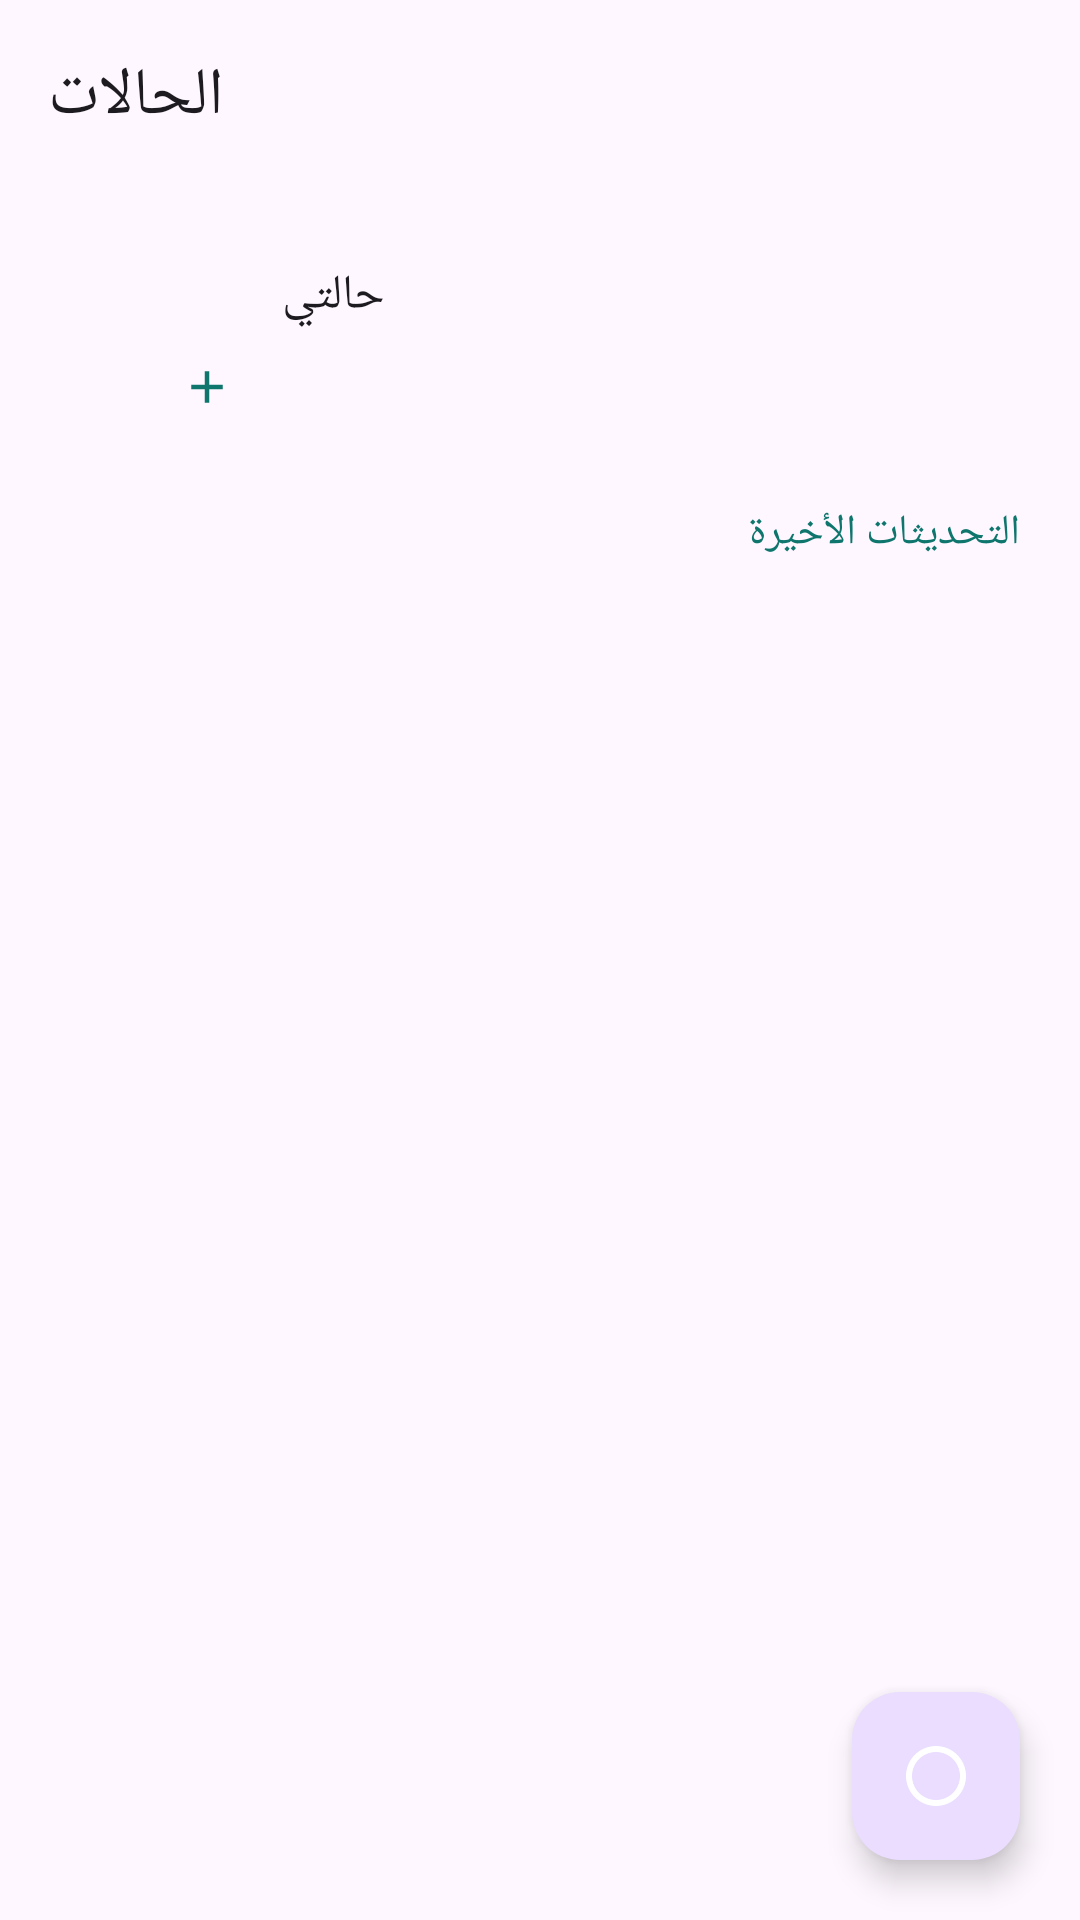

Icon click points for this 1080w x 1920h phone screenshot, format (x,y):
add: (207,387)
